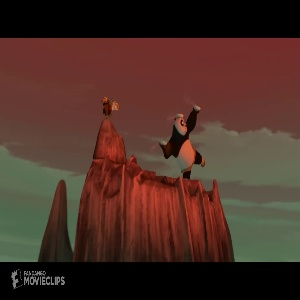po: (159, 102, 208, 180)
shifu: (98, 94, 119, 119)
